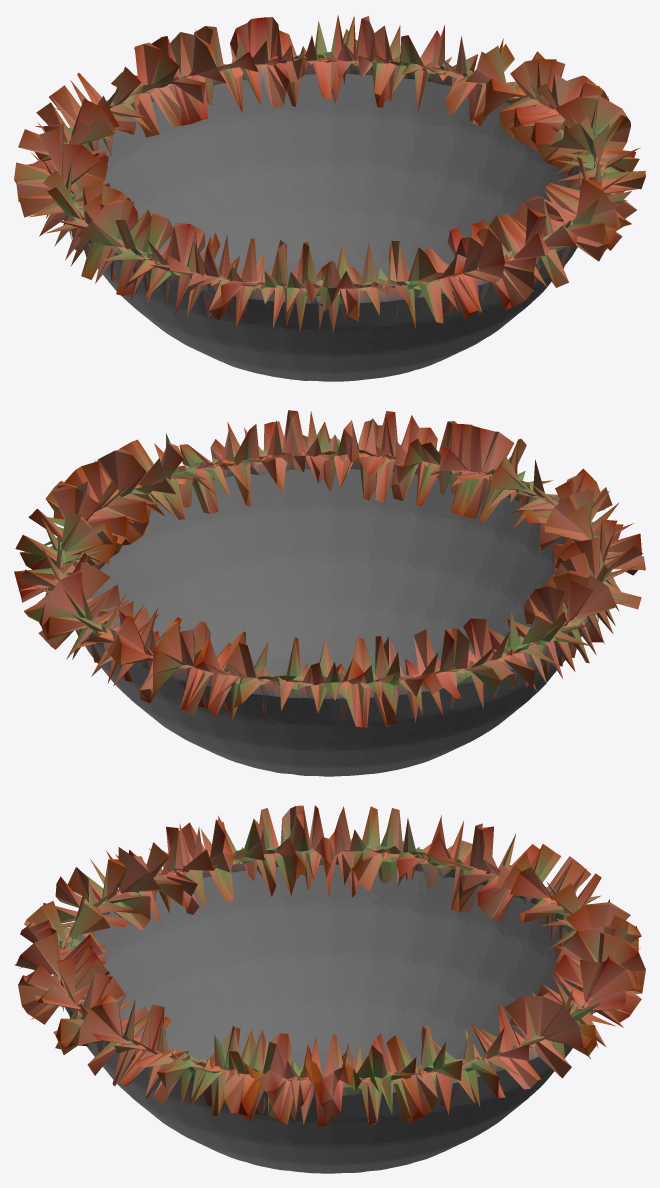
Rendered from bowl_final400.obj.
3 views of the same model, one above another, from view 1: azimuth 30°, elevation 25°; view 2: azimuth 150°, elevation 25°; view 3: azimuth 270°, elevation 25° (orthographic).
Size of the model in its own units: 2.13 by 0.7594 by 2.13.
